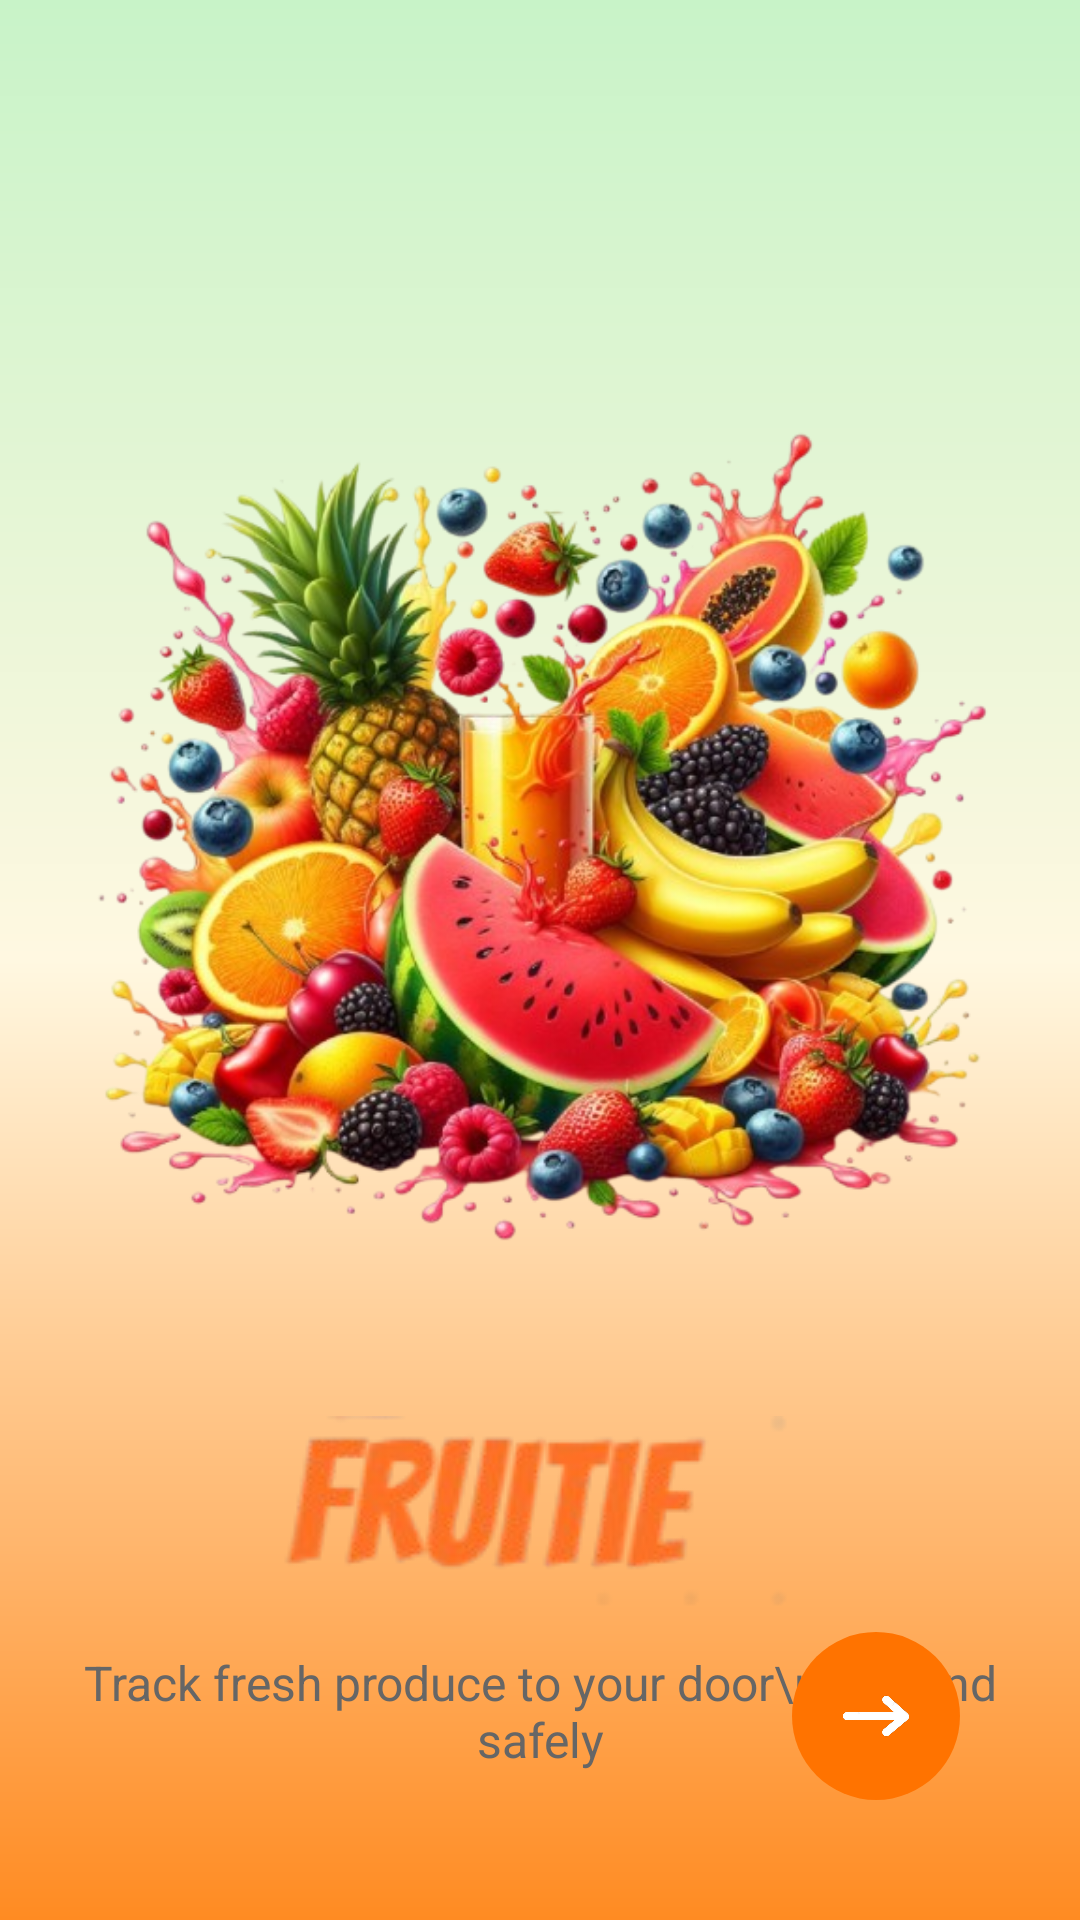

Where to tap for icons on this 1080 x 1920 app screen, as (x,y):
next image: (876,1716)
